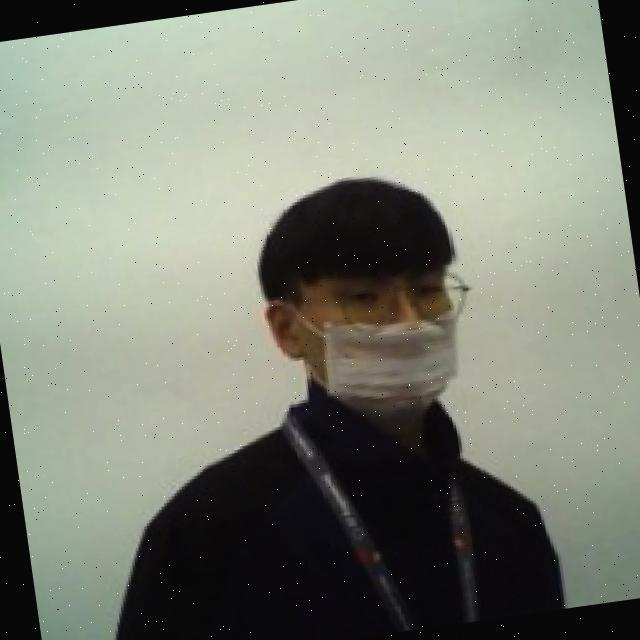mask: (265, 287, 475, 448)
no_gloves: (238, 159, 463, 315)
